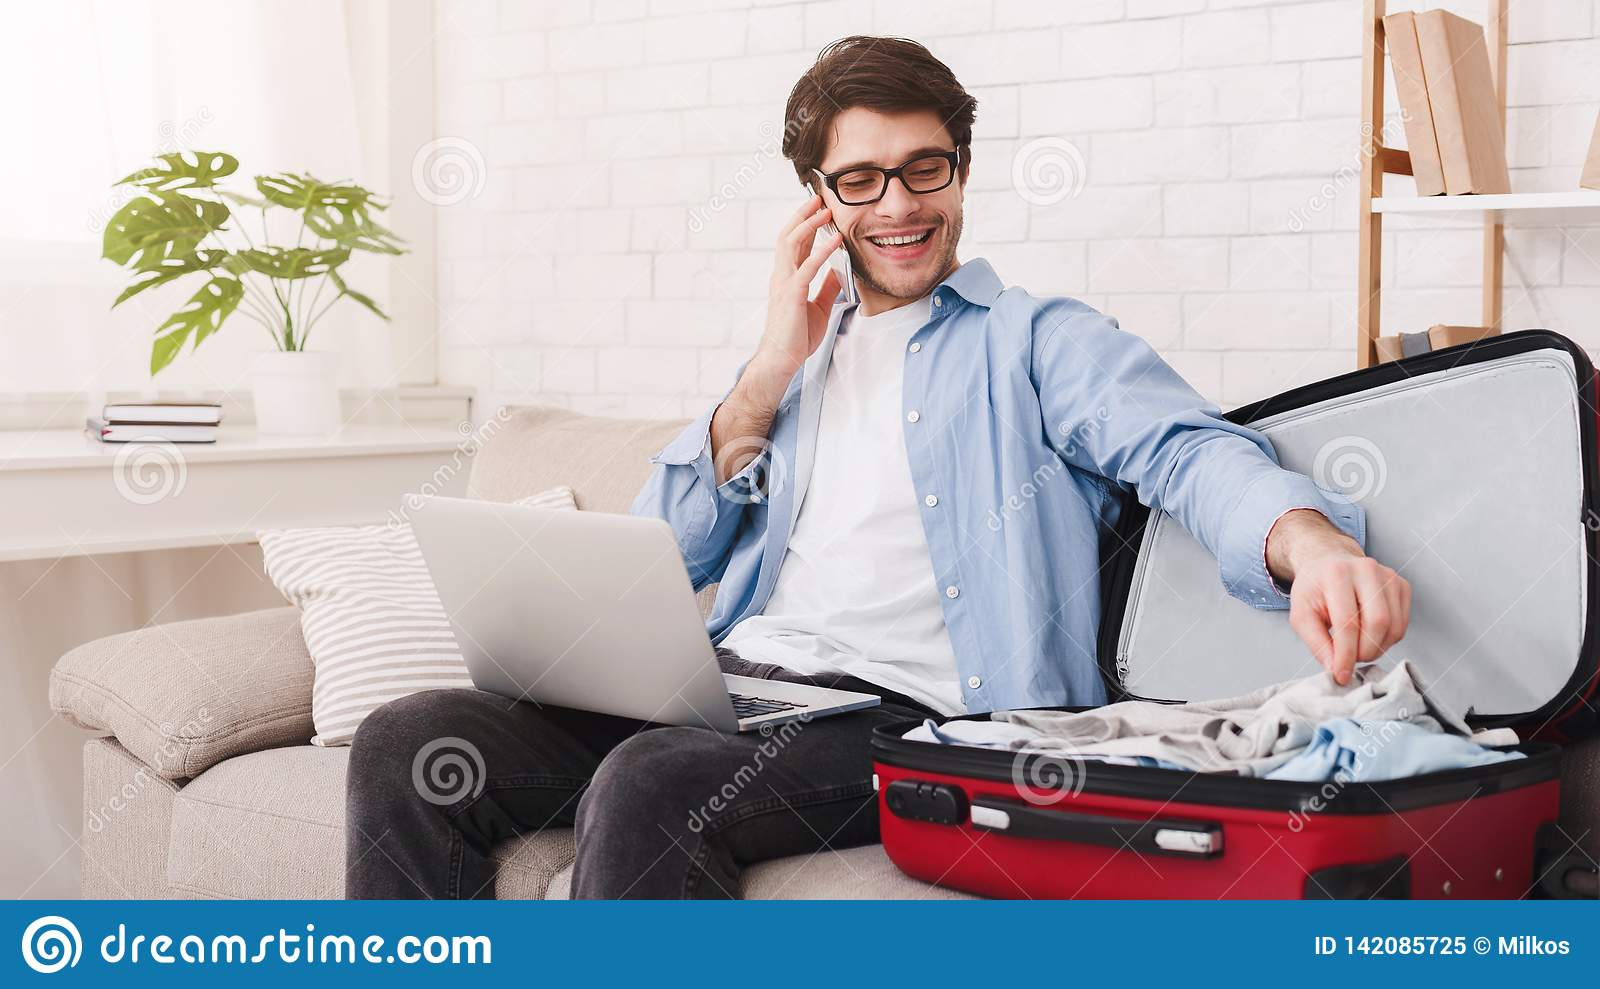phone: (805, 180, 859, 312)
talk: (759, 123, 963, 377)
